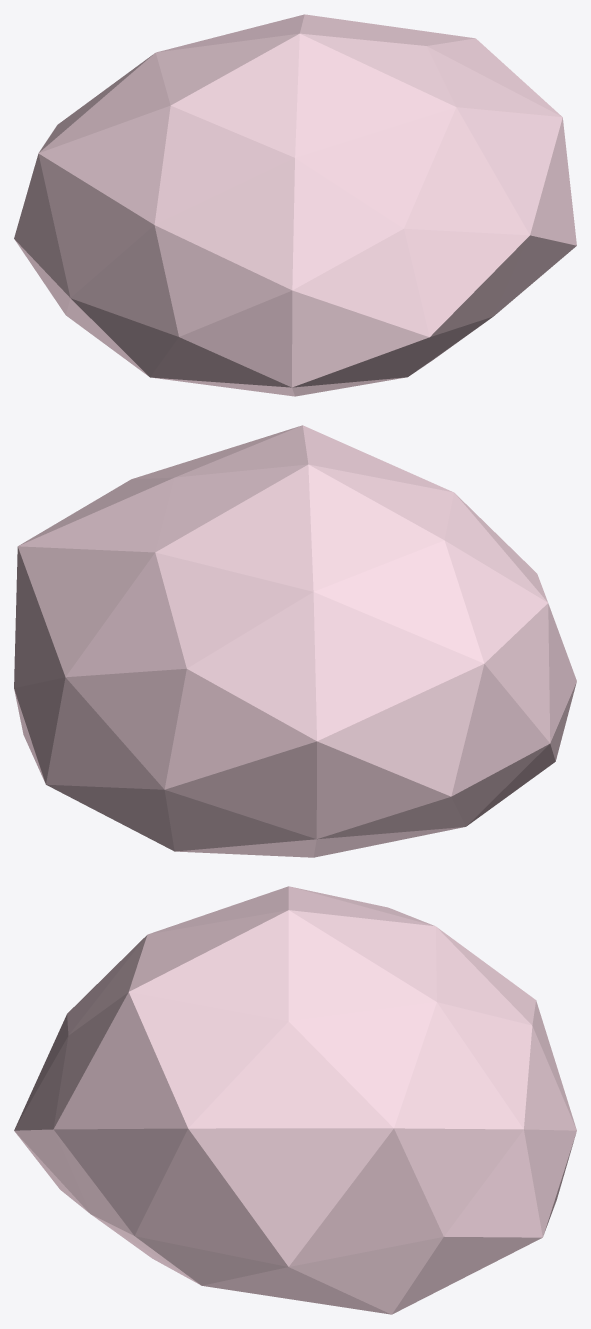
File: tree-blossom-a-crown-far.glb
3 renders of one model, top to bottom at view 1: azimuth 30°, elevation 25°; view 2: azimuth 150°, elevation 25°; view 3: azimuth 270°, elevation 25°, orthographic. The views are drawn at different scales.
Visible parts, largest first — view 1: tree-blossom-a-crown-far; view 2: tree-blossom-a-crown-far; view 3: tree-blossom-a-crown-far.
Part boxes in pixels (box(x1,y1,x2,y2)): tree-blossom-a-crown-far: box(14, 14, 576, 396); tree-blossom-a-crown-far: box(14, 425, 576, 857); tree-blossom-a-crown-far: box(14, 886, 576, 1314).
Size of the model in its own units: 0.9762 by 0.5889 by 0.912.
